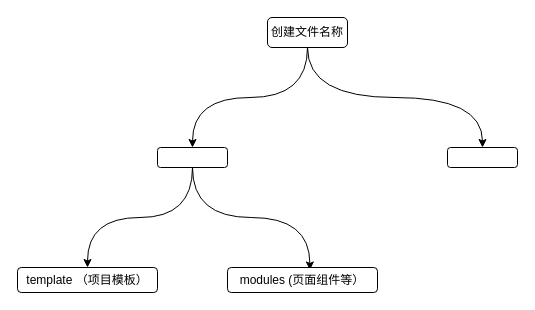
The diagram is 535 pixels wide and 310 high, and some of its shapes have lost their labels. The centre of each missing label's shape, as x and y in pixels:
"react" goes at point 482,157.
"vue" goes at point 192,157.
